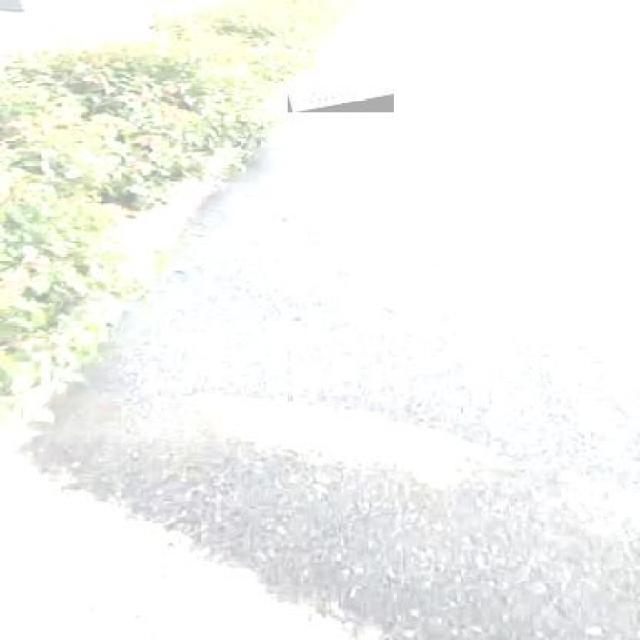Manhole: (288, 92, 394, 112)
Pothole: (128, 392, 534, 492)
